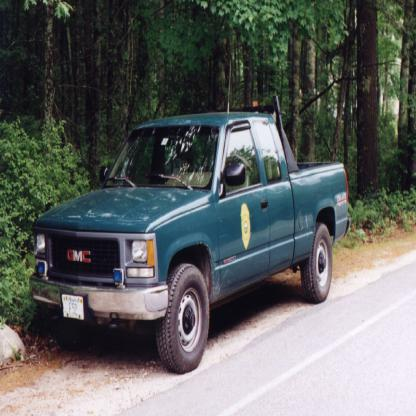Truck: (29, 60, 351, 372)
